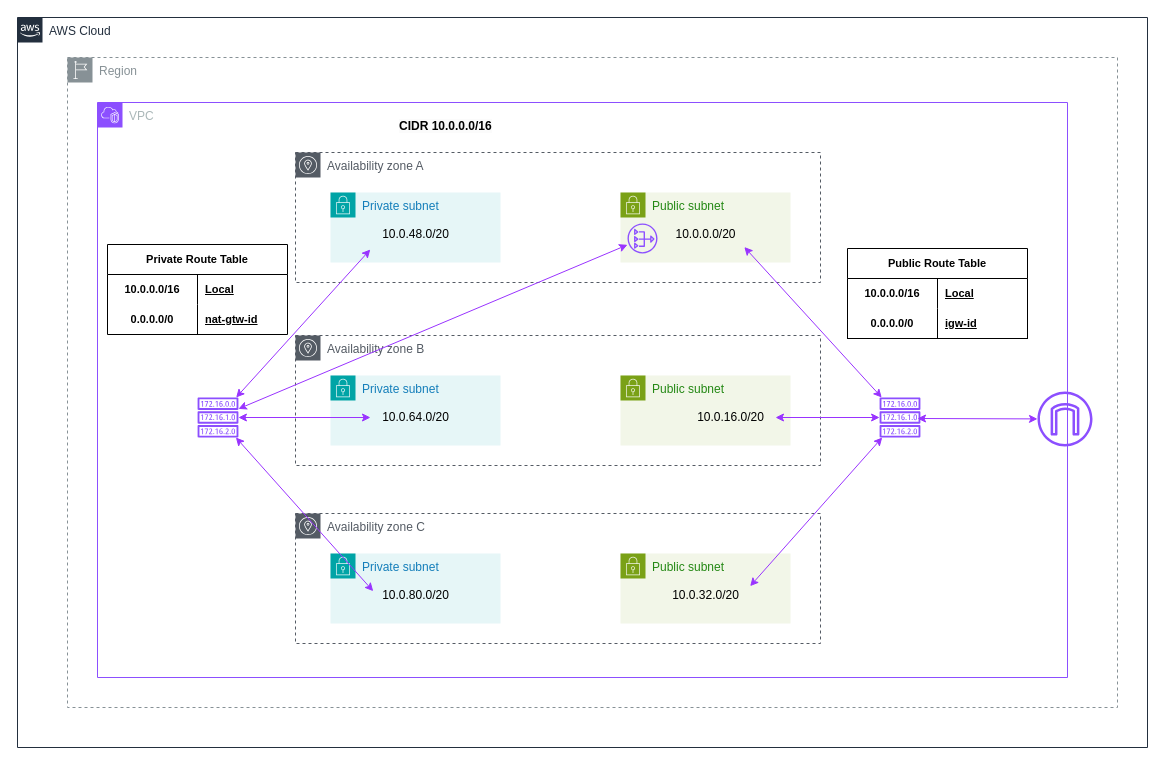
Image size: 1165x765. Some labels were removed from this diagram. The shapes that lost their labels are listed below. From the top down, each one's centre as x and y in pixels, then its label:
At point (642, 238): "NAT Gateway".
At point (217, 417): "Private RT".
At point (899, 417): "Main RT".
At point (1064, 418): "Internet Gateway".
